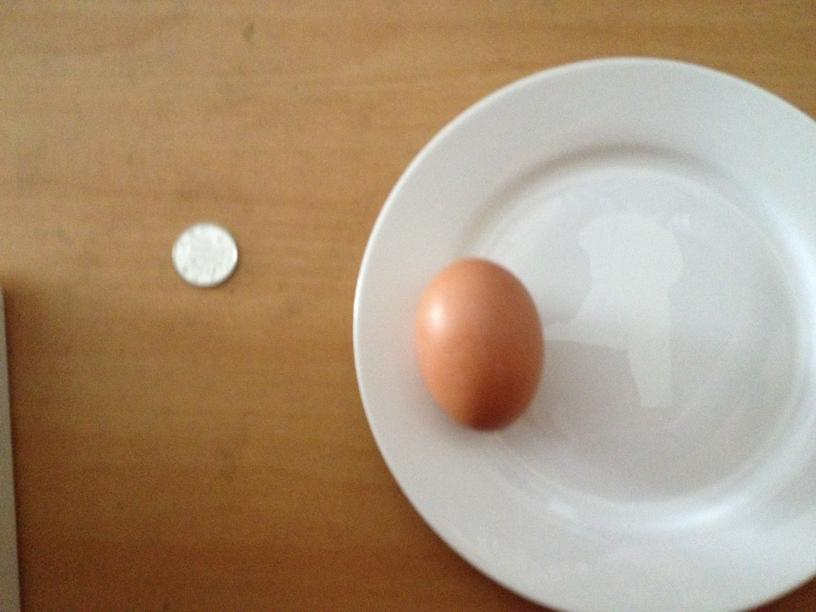coin: (171, 225, 238, 288)
egg: (416, 259, 541, 431)
